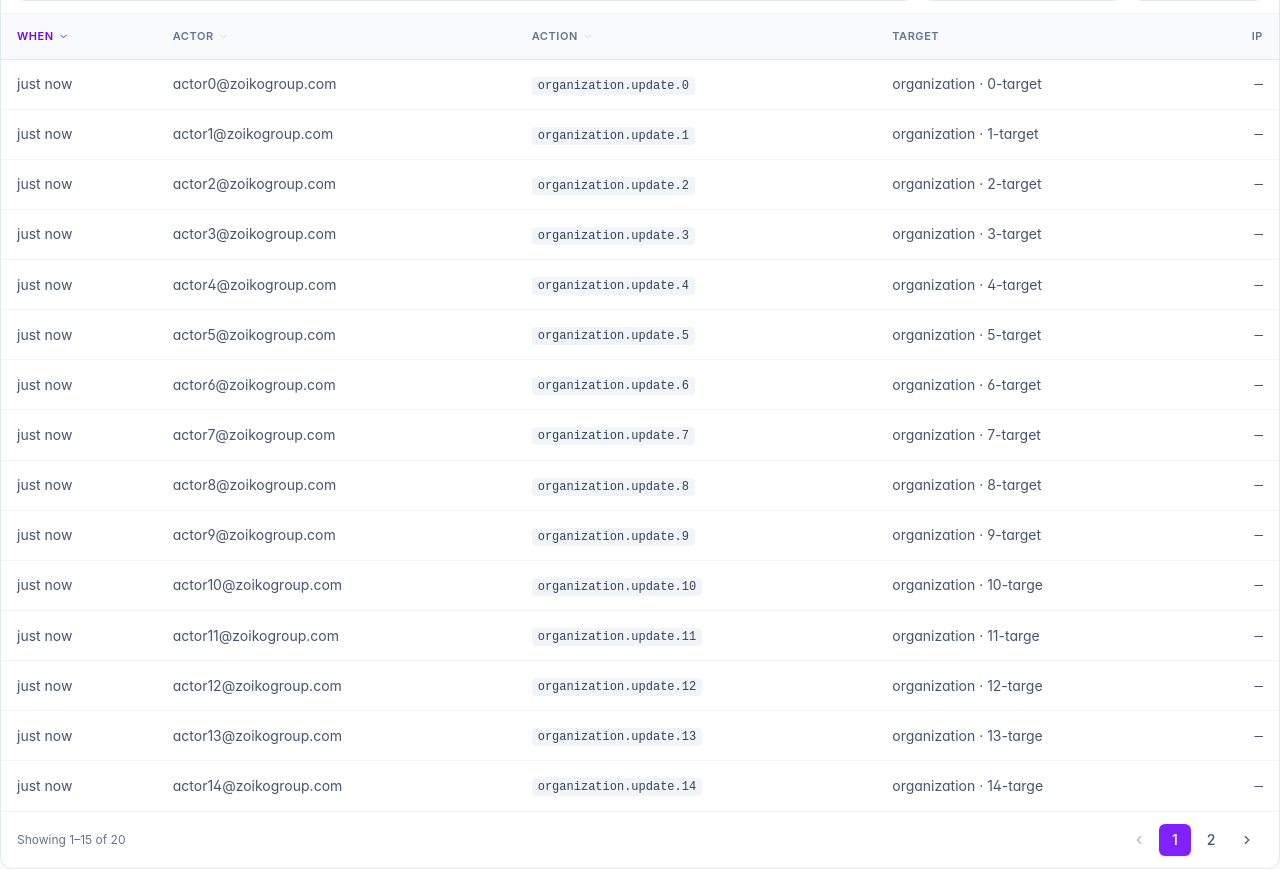
Test case: searching across table pages › searches all loaded rows before pagination and returns results on page one
(page scrolled)
Step 1. Click the button named "next page" → click(1247, 840), box [1231,824,1263,856]
(page scrolled)
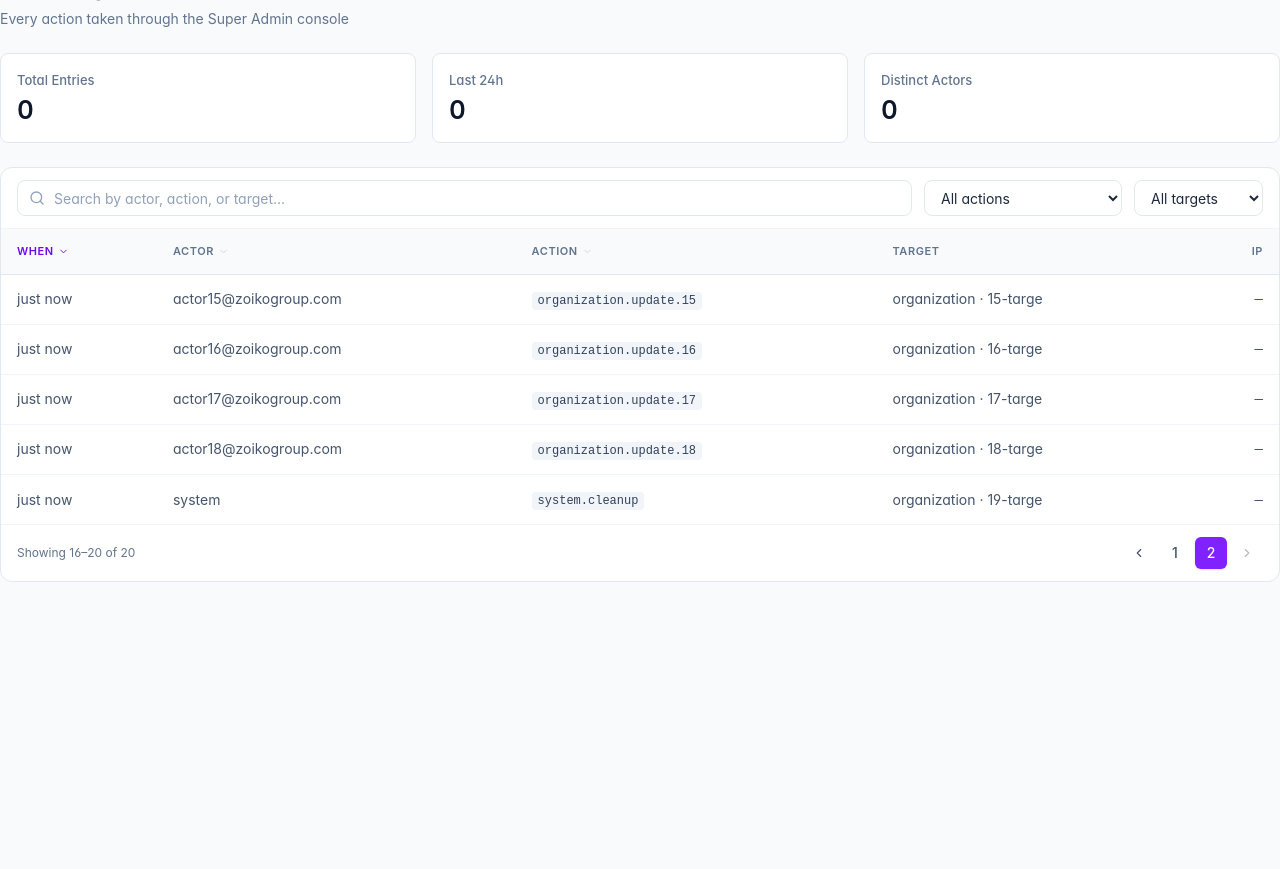
Step 2. Type "sys" into the field with placeholder "Search by actor, action, or target…" → (464, 198), box [17,180,912,216]
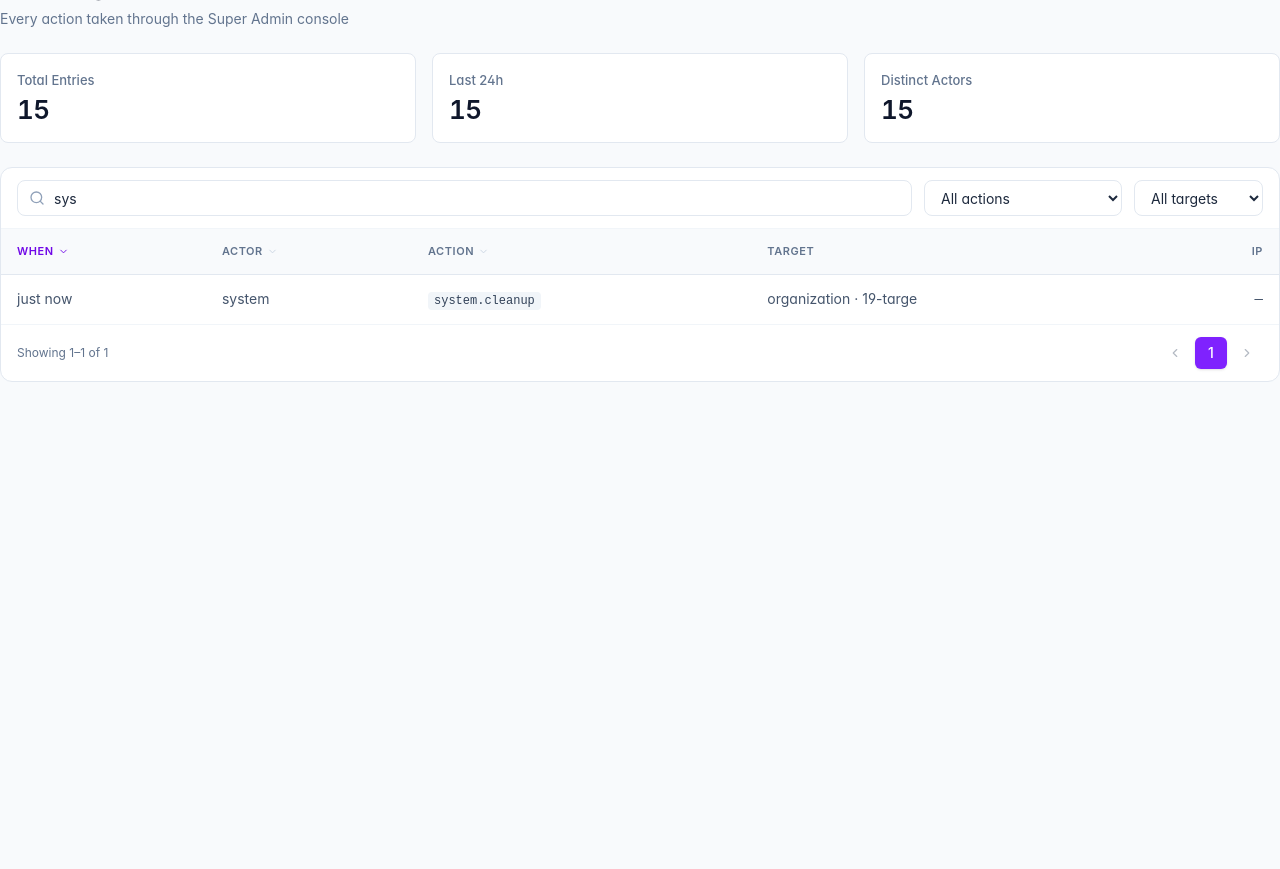
expect the row "just now system system.cleanup organization · 19-targe —" is shown: met, box [1,274,1279,324]
expect the text "Showing 1–1 of 1" is shown: met, box [17,345,108,361]
